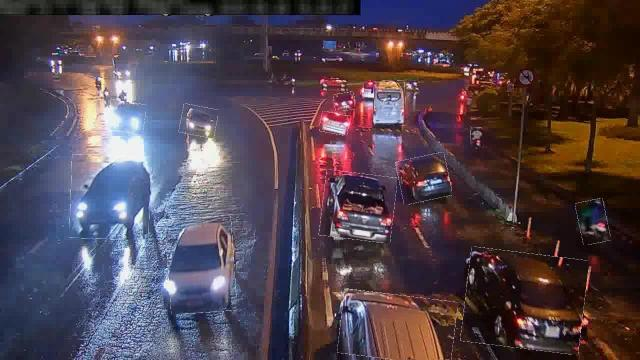Bike: (577, 200, 609, 244), (471, 127, 482, 147)
Bus: (374, 80, 406, 126)
Car: (464, 250, 586, 352), (339, 292, 457, 360), (70, 155, 150, 239), (167, 217, 236, 314), (320, 171, 396, 241), (398, 154, 450, 202), (180, 105, 218, 137), (107, 101, 145, 133), (320, 112, 350, 136), (334, 93, 354, 111)
